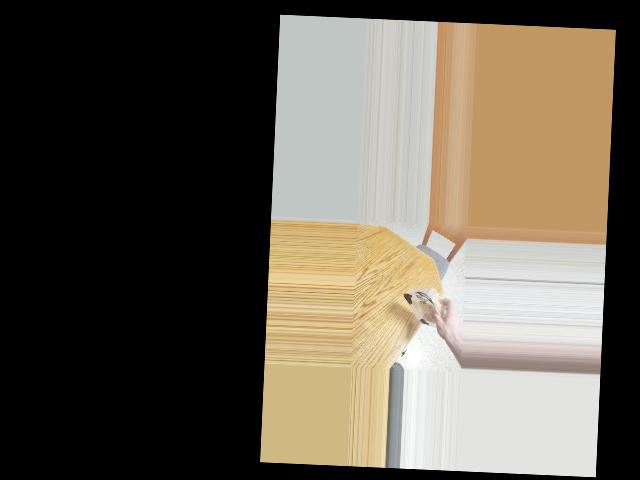cheese: (403, 281, 445, 340)
